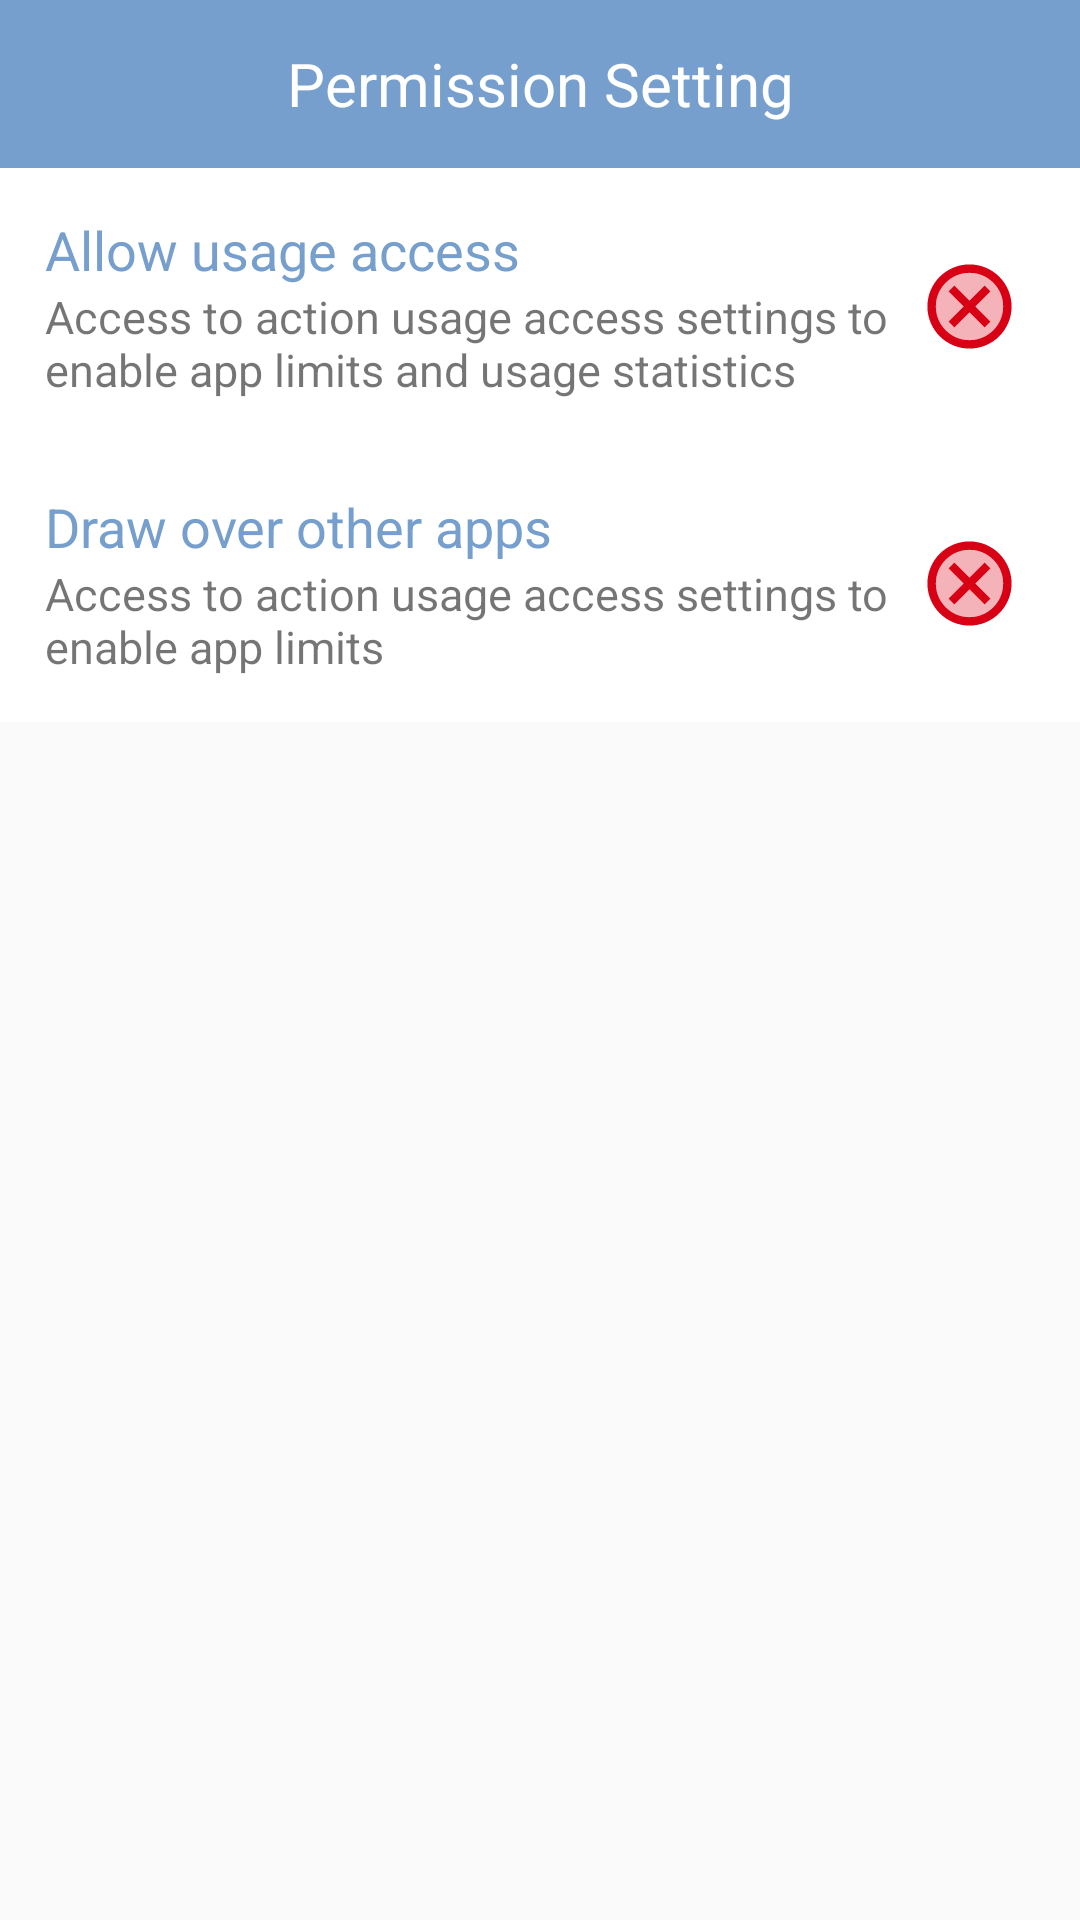

Where icons sit on this 1080w x 1920h app screen, as (x1, y1, x2, y2):
false: (927, 264, 1012, 349), (927, 541, 1012, 626)
